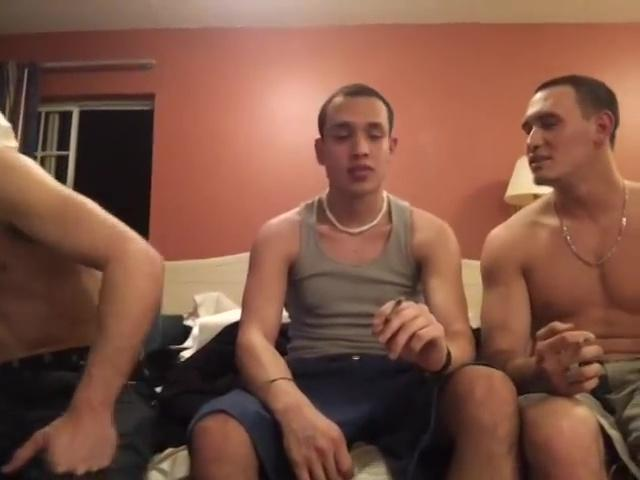cigarette: (383, 295, 409, 327), (566, 335, 595, 354)
